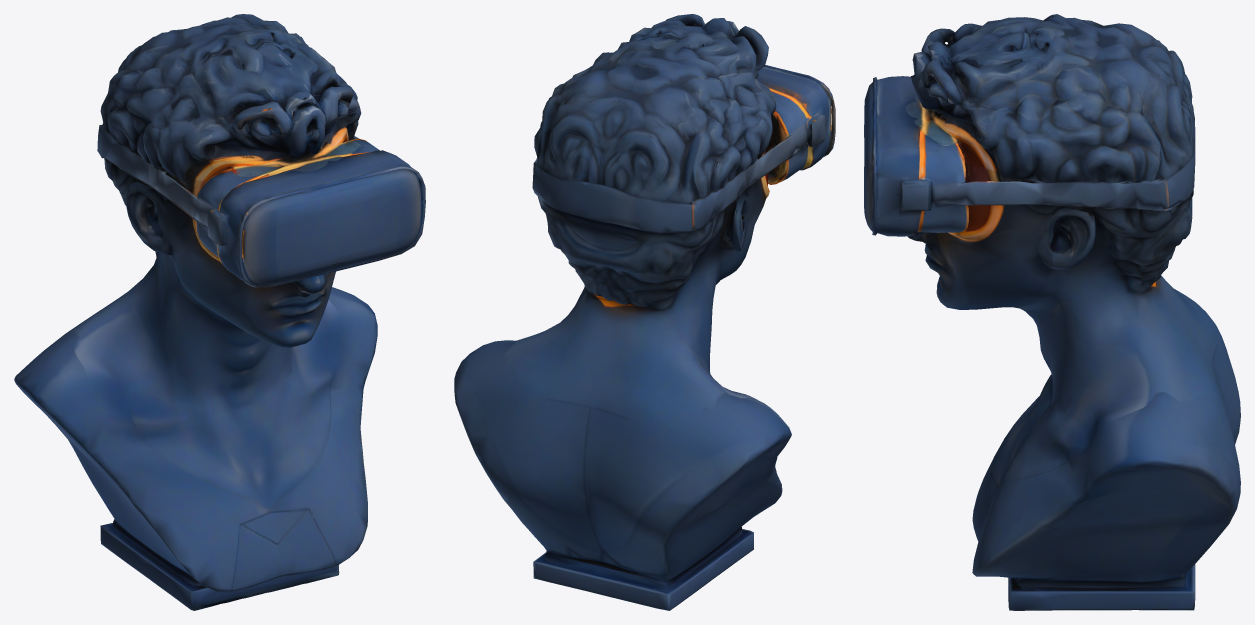
File: statue2.glb
3 views of the same model, side by side, from view 1: azimuth 30°, elevation 25°; view 2: azimuth 150°, elevation 25°; view 3: azimuth 270°, elevation 25° (orthographic). The views are drawn at different scales.
Bounding box in the file's own units: 1.32 × 2 × 1.25.
Materials: 1 (1 with a texture image).
